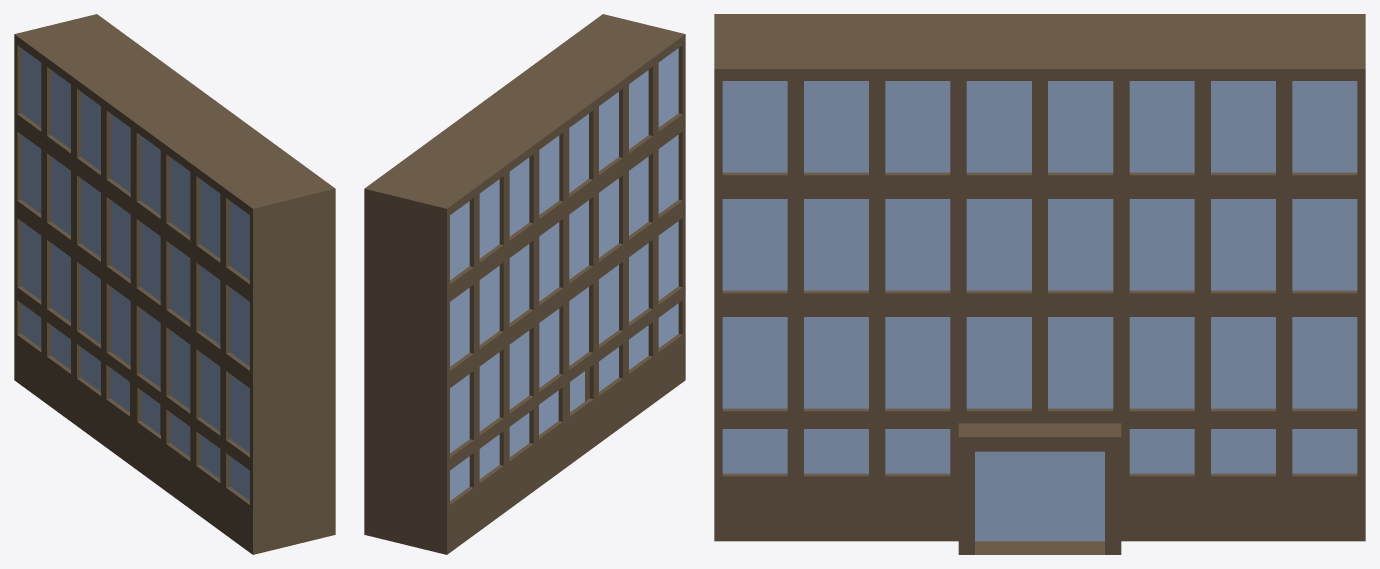
Rendered from Saemg1Texture.fbx.
3 renders of one model, left to right at view 1: azimuth 30°, elevation 25°; view 2: azimuth 150°, elevation 25°; view 3: azimuth 270°, elevation 25°, orthographic. The views are drawn at different scales.
Parts seen in each view (by area): view 1: Cube; view 2: Cube; view 3: Cube.
Boxes of the visible parts, x1=… form: Cube: x1=14, y1=14, x2=335, y2=554; Cube: x1=364, y1=14, x2=685, y2=554; Cube: x1=714, y1=14, x2=1365, y2=554.
Size of the model in its own units: 5000 by 16000 by 20000.
